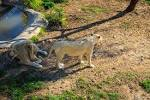lion: (47, 33, 105, 70)
